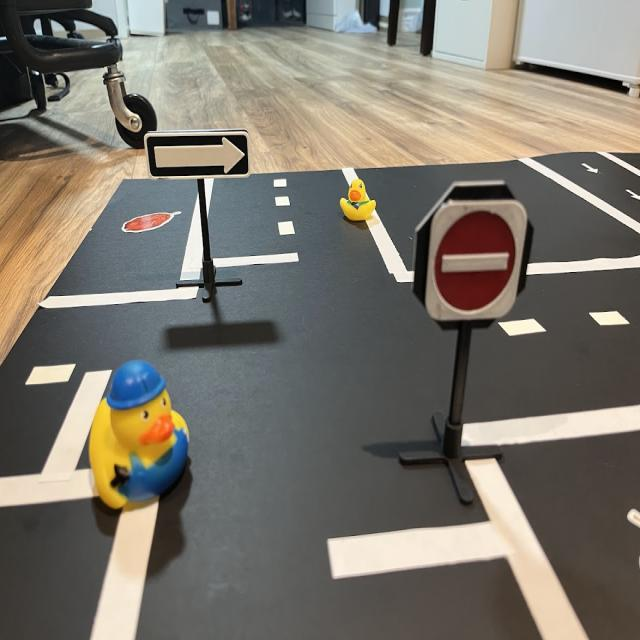duck_regular: (338, 176, 379, 223)
duck_specialty: (87, 362, 191, 517)
sign_noentry: (430, 203, 524, 325)
sign_oneway_right: (147, 130, 251, 181)
